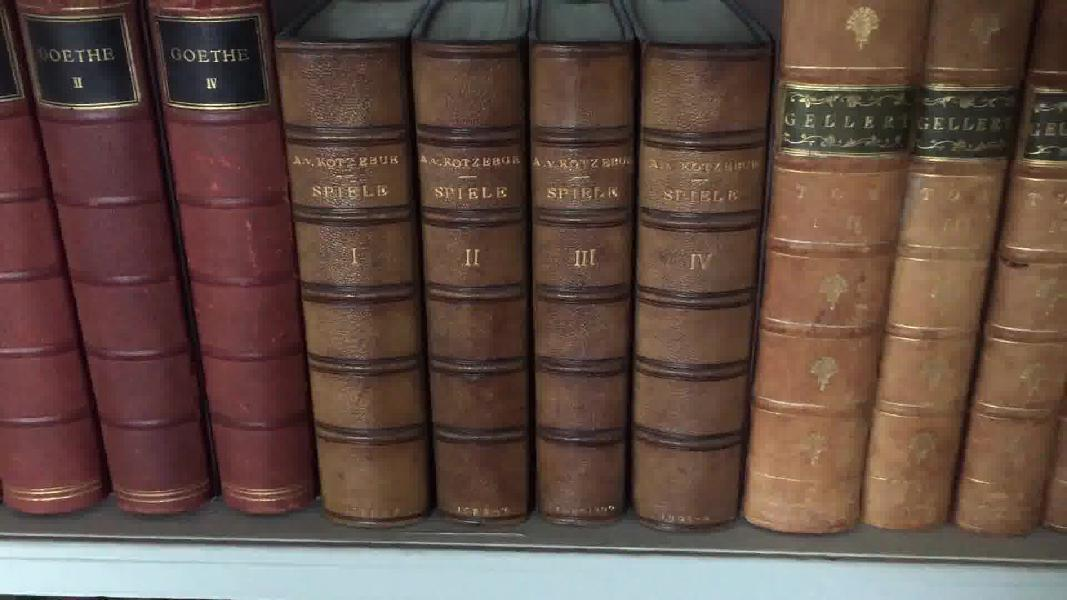Aa6-14_17: (256, 36, 765, 552)
